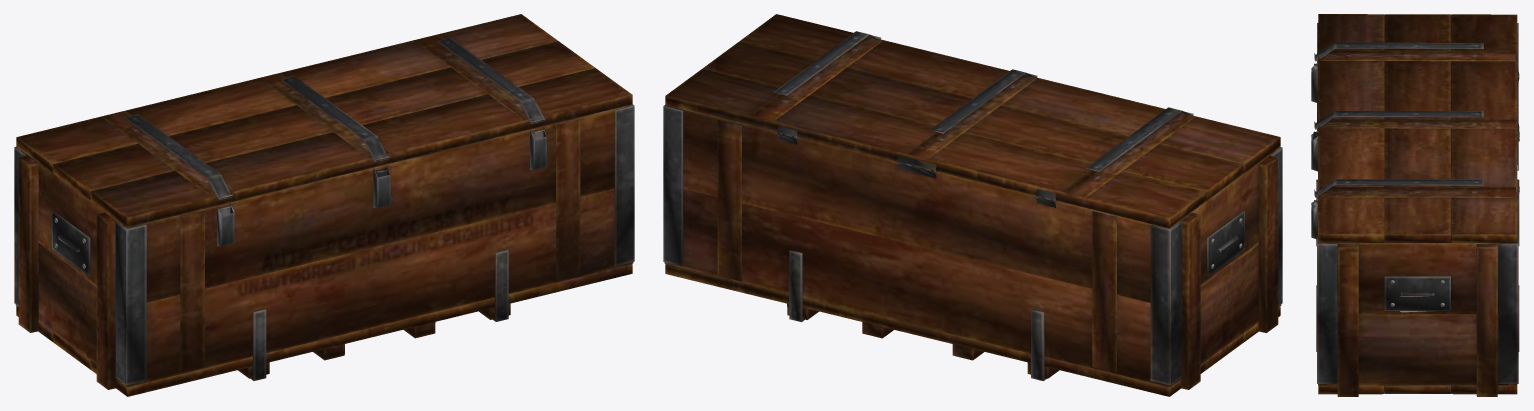
The model's file is wooden_military_crate.glb.
3 views of the same model, side by side, from view 1: azimuth 30°, elevation 25°; view 2: azimuth 150°, elevation 25°; view 3: azimuth 270°, elevation 25° (orthographic). The views are drawn at different scales.
Parts seen in each view (by area): view 1: wooden_military_crate; view 2: wooden_military_crate; view 3: wooden_military_crate.
Boxes of the visible parts, x1=… form: wooden_military_crate: x1=14, y1=14, x2=634, y2=396; wooden_military_crate: x1=663, y1=14, x2=1282, y2=396; wooden_military_crate: x1=1311, y1=14, x2=1519, y2=396.
Bounding box in the file's own units: 1.24 × 0.4639 × 0.4801.
Materials: 1 (1 with a texture image).
